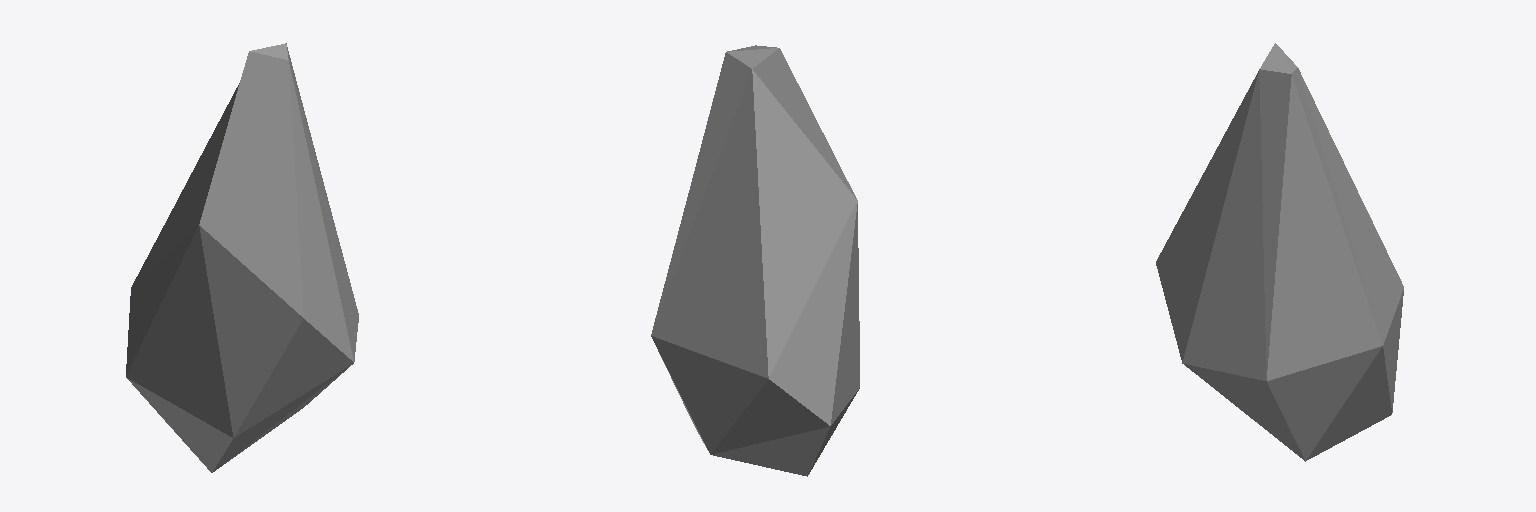
Rendered from Low_Poly_Rock_Big_002.obj.
The picture shows the model from 3 angles: view 1: azimuth 30°, elevation 25°; view 2: azimuth 150°, elevation 25°; view 3: azimuth 270°, elevation 25°; orthographic projection.
Visible parts, largest first — view 1: Low_Poly_Rock_Big_002_Icosphere.005; view 2: Low_Poly_Rock_Big_002_Icosphere.005; view 3: Low_Poly_Rock_Big_002_Icosphere.005.
Part boxes in pixels (x1,y1,x2,y2): Low_Poly_Rock_Big_002_Icosphere.005: (126, 43, 358, 472); Low_Poly_Rock_Big_002_Icosphere.005: (651, 45, 859, 476); Low_Poly_Rock_Big_002_Icosphere.005: (1156, 43, 1403, 461).
Bounding box in the file's own units: 1.47 × 3.04 × 1.64.